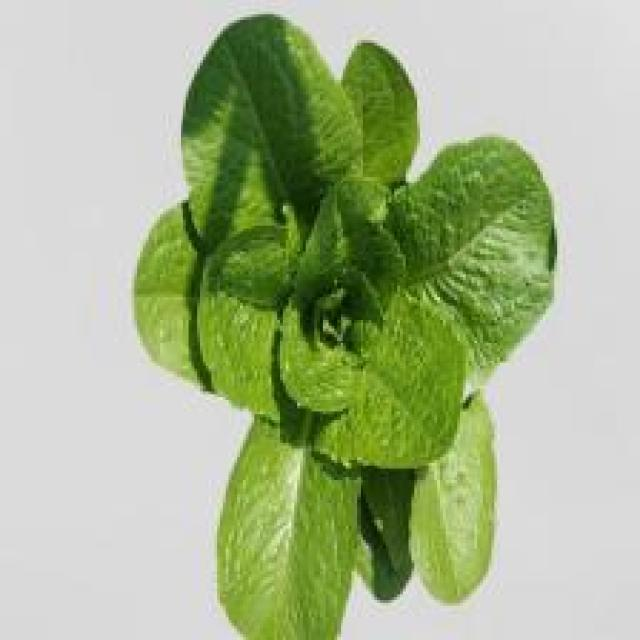Lettuce: (134, 16, 553, 640)
